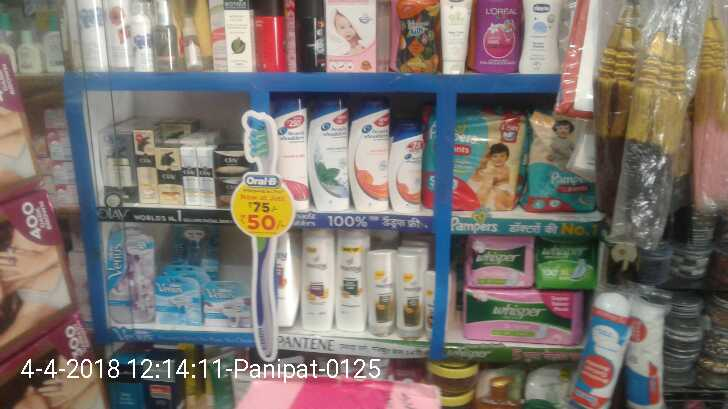venus: (108, 227, 153, 322), (153, 265, 205, 325), (205, 279, 250, 326), (172, 223, 218, 266)
